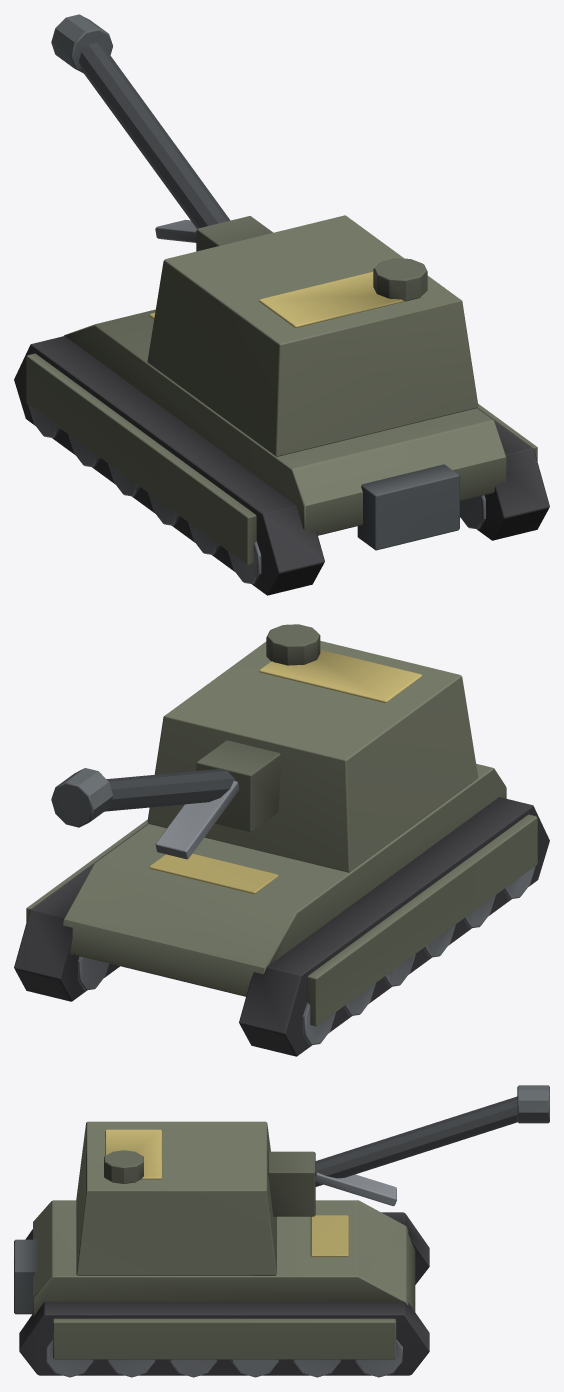
File: artillery_vehicle.glb
The picture shows the model from 3 angles, top to bottom: view 1: azimuth 30°, elevation 25°; view 2: azimuth 150°, elevation 25°; view 3: azimuth 270°, elevation 25°; orthographic projection. The views are drawn at different scales.
Parts seen in each view (by area): view 1: Turret, Body; view 2: Body, Turret; view 3: Body, Turret.
Part boxes in pixels (x1=…): Turret: x1=51, y1=14, x2=478, y2=456; Body: x1=14, y1=309, x2=549, y2=595; Body: x1=14, y1=764, x2=549, y2=1056; Turret: x1=51, y1=624, x2=478, y2=872; Body: x1=14, y1=1200, x2=429, y2=1377; Turret: x1=76, y1=1085, x2=549, y2=1275.
Size of the model in its own units: 2.72 by 2.74 by 5.6.
